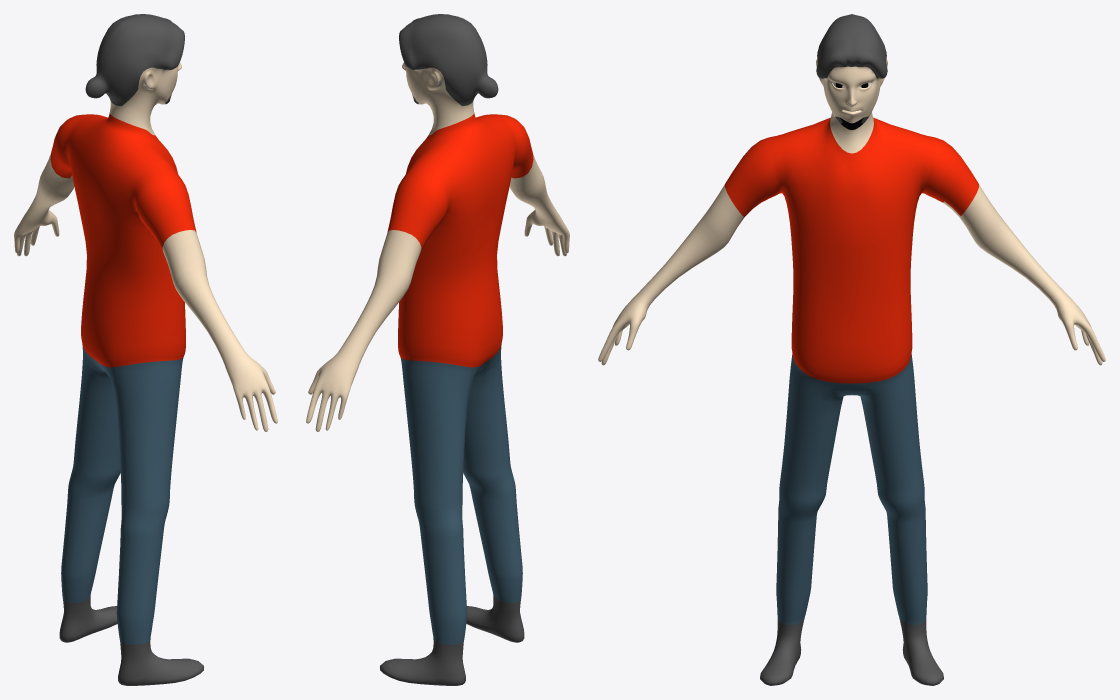
The model's file is Enemy_char.fbx.
The picture shows the model from 3 angles, left to right: view 1: azimuth 30°, elevation 25°; view 2: azimuth 150°, elevation 25°; view 3: azimuth 270°, elevation 25°; orthographic projection. The views are drawn at different scales.
Parts seen in each view (by area): view 1: Enemy_char; view 2: Enemy_char; view 3: Enemy_char.
Part boxes in pixels (bbox=[...]): Enemy_char: bbox=[14, 14, 277, 685]; Enemy_char: bbox=[306, 14, 569, 685]; Enemy_char: bbox=[598, 14, 1105, 685].
Bounding box in the file's own units: 30.59 × 194 × 136.
